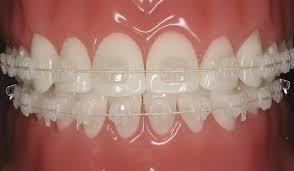Braces: (0, 57, 294, 118)
